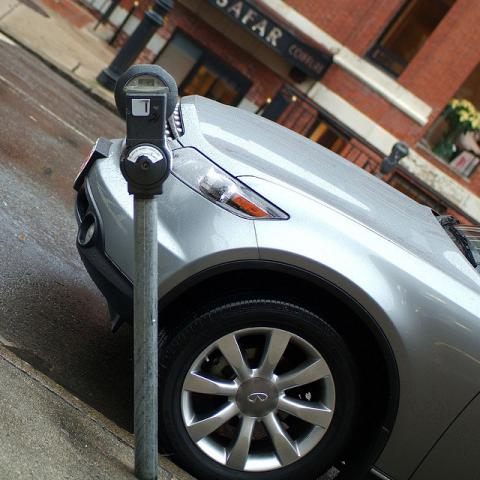car: (67, 88, 479, 470)
